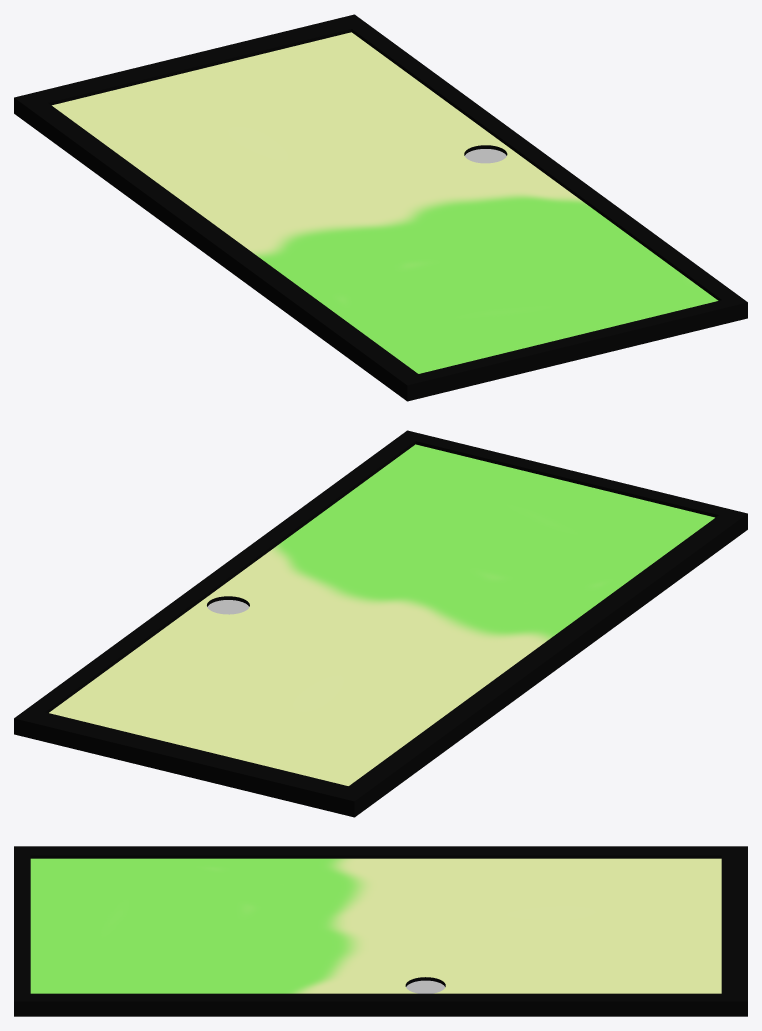
Rendered from husuma.fbx.
3 views of the same model, one above another, from view 1: azimuth 30°, elevation 25°; view 2: azimuth 150°, elevation 25°; view 3: azimuth 270°, elevation 25° (orthographic). The views are drawn at different scales.
Visible parts, largest first — view 1: 平面; view 2: 平面; view 3: 平面, 立方体.
Boxes of the visible parts, left/top/right/bottom form: 平面: left=14, top=14, right=747, bottom=401; 平面: left=14, top=430, right=747, bottom=817; 平面: left=14, top=846, right=747, bottom=1016; 立方体: left=406, top=980, right=445, bottom=993.
Bounding box in the file's own units: 400 × 18.01 × 800.
